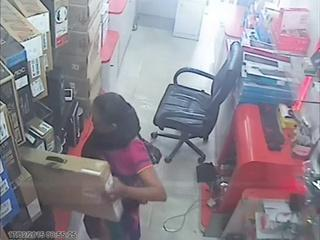shoplifting: (72, 92, 166, 240)
